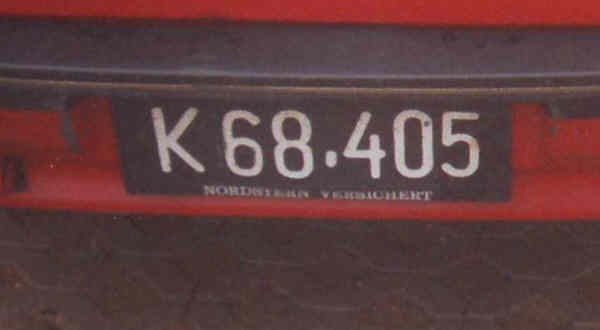license_plate: (111, 96, 510, 203)
